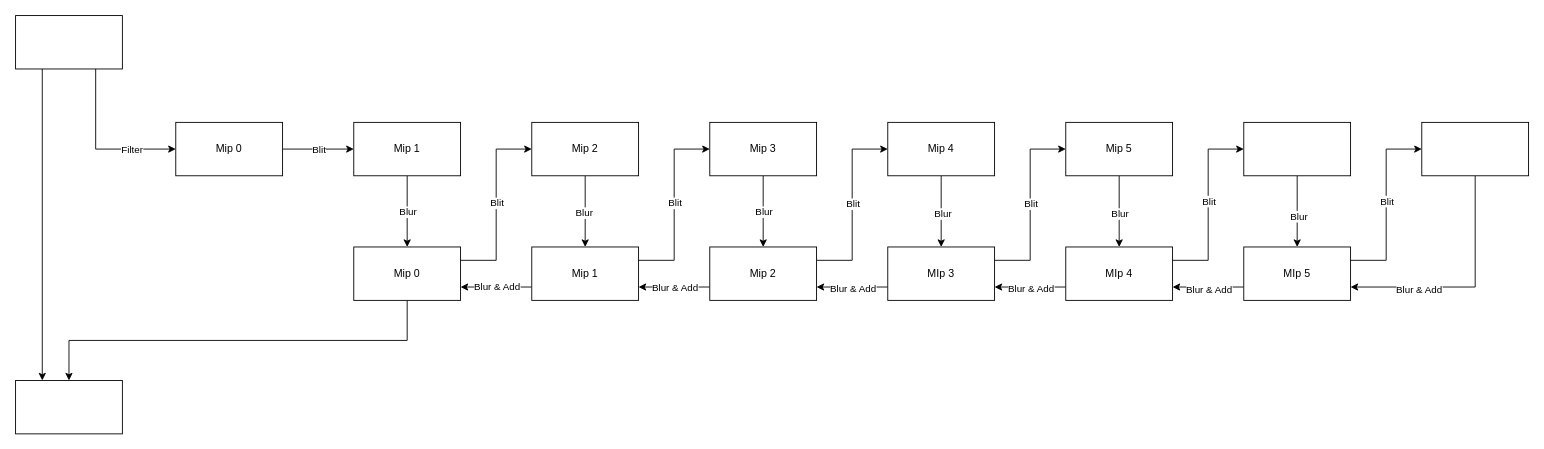
This 1544x449 diagram has some shape labels left out. Here are the shapes that lost their labels. From the top down, the box of each, then its label:
(15, 15, 122, 69): Luminance
(1243, 121, 1351, 176): Mip 6
(1421, 121, 1529, 176): Mip 7
(15, 380, 122, 434): Composite Output
